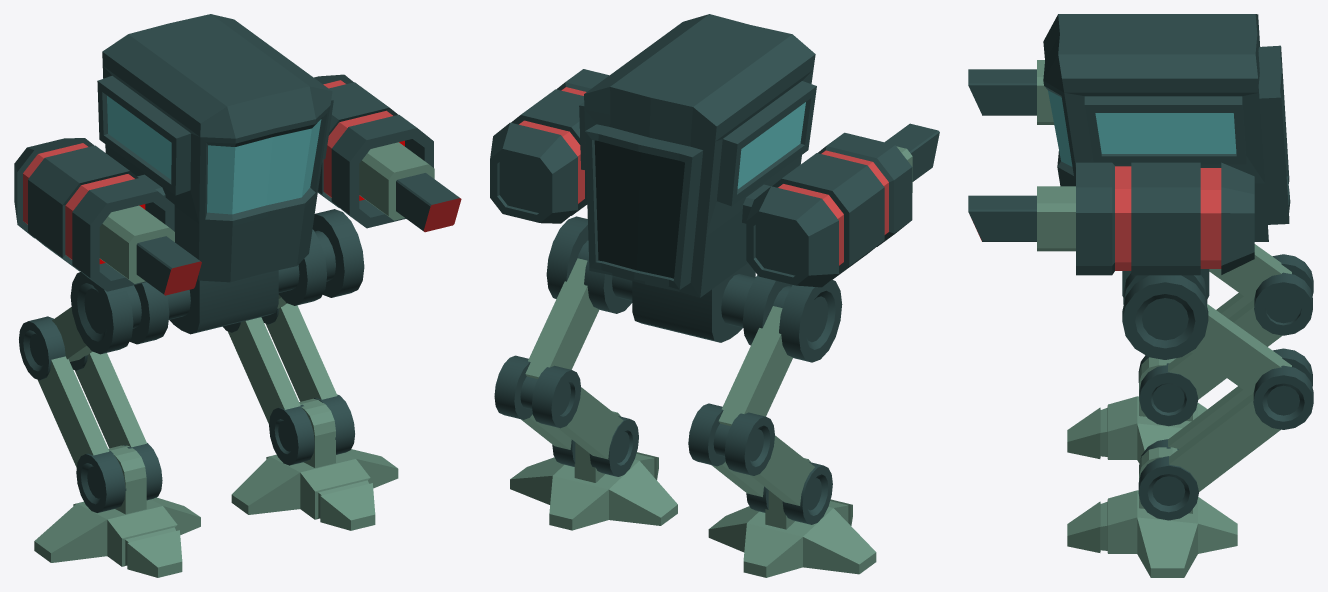
The model's file is enemigo3.obj.
3 renders of one model, left to right at view 1: azimuth 30°, elevation 25°; view 2: azimuth 150°, elevation 25°; view 3: azimuth 270°, elevation 25°, orthographic.
Parts seen in each view (by area): view 1: Cube.028, Cube.034, Cube.033, Cylinder.019, Cube.032, Cube.031, Cylinder.022, Cube.029, Plane.015, Cylinder.020, Cube.030; view 2: Cube.028, Cube.034, Cube.033, Cylinder.019, Cylinder.020, Cube.030, Cube.029, Cylinder.022, Cube.031, Cube.032, Plane.015; view 3: Cube.028, Cube.034, Cube.033, Cylinder.020, Cylinder.019, Cylinder.022, Cube.030, Cube.032, Cube.031, Plane.015.
Boxes of the visible parts, bbox=[...] form: Cube.028: bbox=[97, 14, 333, 282]; Cube.034: bbox=[14, 74, 461, 295]; Cube.033: bbox=[34, 449, 398, 577]; Cylinder.019: bbox=[70, 209, 364, 354]; Cube.032: bbox=[38, 303, 337, 467]; Cube.031: bbox=[75, 317, 300, 448]; Cylinder.022: bbox=[76, 394, 354, 512]; Cube.029: bbox=[169, 270, 278, 334]; Plane.015: bbox=[108, 398, 335, 514]; Cylinder.020: bbox=[19, 308, 279, 380]; Cube.030: bbox=[52, 295, 286, 361]; Cube.028: bbox=[579, 14, 816, 297]; Cube.034: bbox=[490, 69, 939, 287]; Cube.033: bbox=[510, 452, 876, 577]; Cylinder.019: bbox=[546, 216, 842, 362]; Cylinder.020: bbox=[494, 355, 774, 475]; Cube.030: bbox=[525, 258, 792, 426]; Cube.029: bbox=[632, 263, 755, 342]; Cylinder.022: bbox=[552, 416, 832, 524]; Cube.031: bbox=[557, 387, 763, 497]; Cube.032: bbox=[521, 414, 814, 505]; Plane.015: bbox=[574, 411, 810, 529]; Cube.028: bbox=[1043, 14, 1290, 241]; Cube.034: bbox=[968, 60, 1254, 275]; Cube.033: bbox=[1067, 396, 1237, 577]; Cylinder.020: bbox=[1253, 254, 1313, 429]; Cylinder.019: bbox=[1122, 273, 1208, 359]; Cylinder.022: bbox=[1138, 355, 1198, 520]; Cube.030: bbox=[1191, 244, 1291, 394]; Cube.032: bbox=[1169, 293, 1280, 491]; Cube.031: bbox=[1168, 299, 1281, 448]; Plane.015: bbox=[1139, 357, 1192, 513].
Size of the model in its own units: 8.23 by 10.4 by 7.11.
